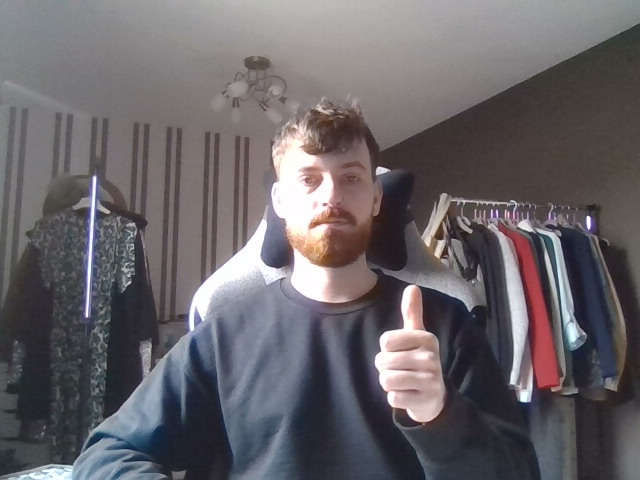Thumbs Up: (364, 279, 462, 432)
